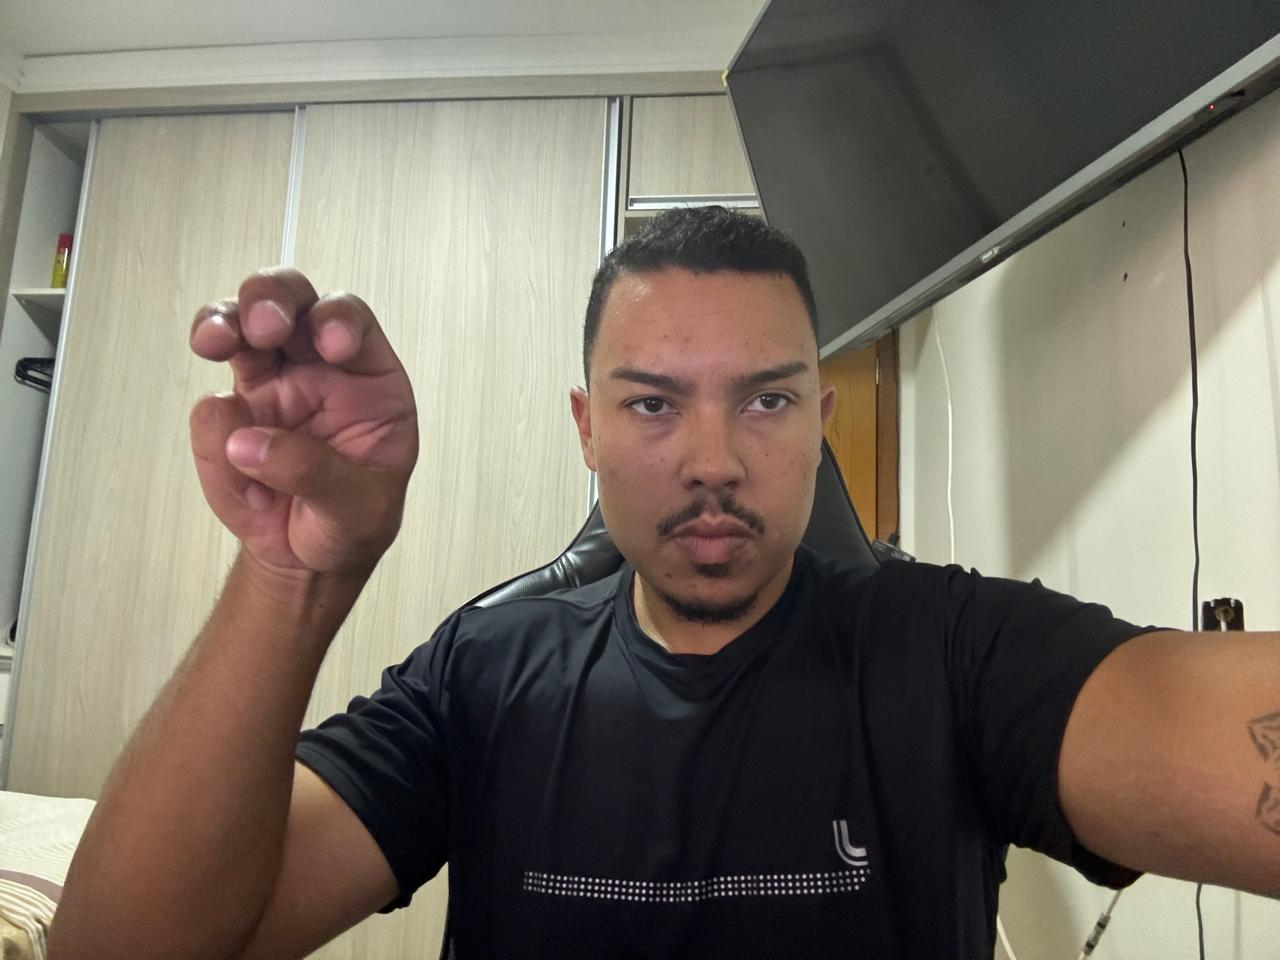m: (171, 255, 431, 586)
